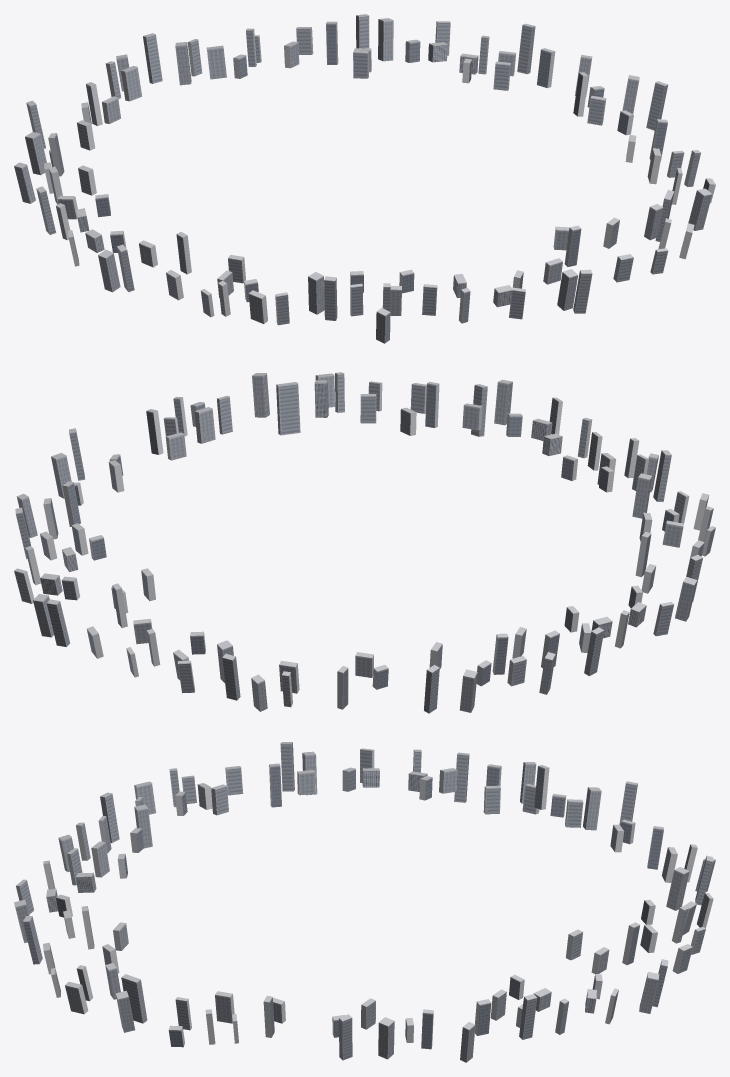
The model's file is Building_Distant_001.fbx.
3 renders of one model, top to bottom at view 1: azimuth 30°, elevation 25°; view 2: azimuth 150°, elevation 25°; view 3: azimuth 270°, elevation 25°, orthographic. The views are drawn at different scales.
Parts seen in each view (by area): view 1: Building_Distant_001; view 2: Building_Distant_001; view 3: Building_Distant_001.
Part boxes in pixels (box(x1,y1,x2,y2)): Building_Distant_001: box(14, 14, 715, 343); Building_Distant_001: box(14, 372, 715, 713); Building_Distant_001: box(14, 742, 715, 1062).
Bounding box in the file's own units: 1360 × 140 × 1394.
